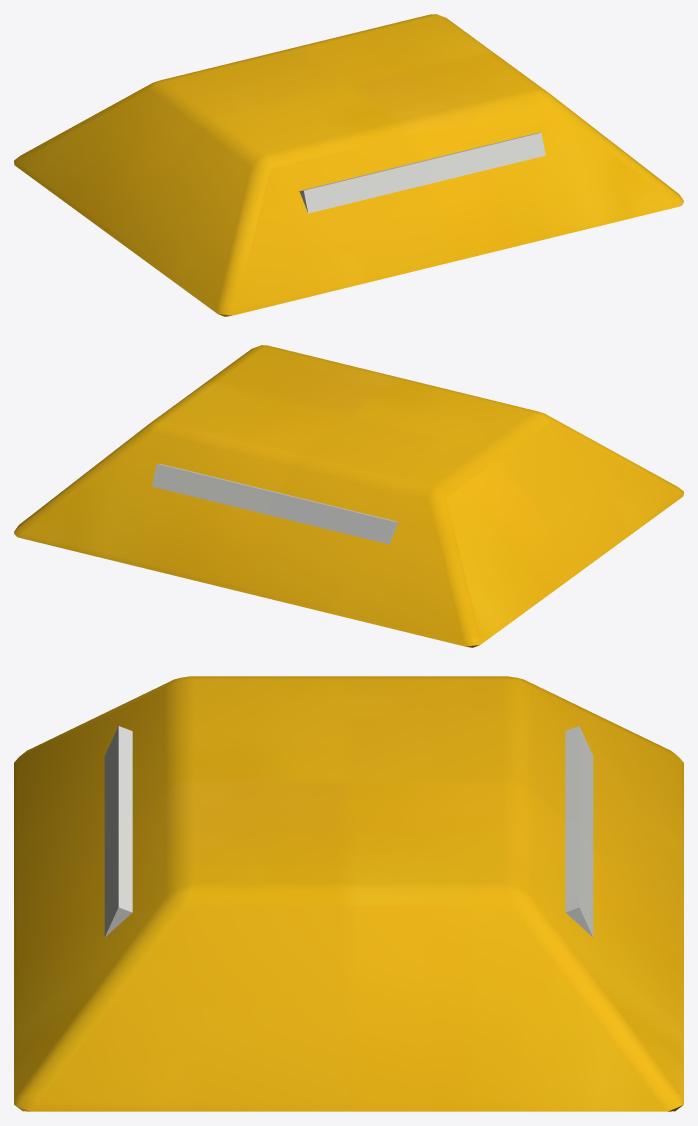
Rendered from PAV-SIN-002_lod1.glb.
3 views of the same model, one above another, from view 1: azimuth 30°, elevation 25°; view 2: azimuth 150°, elevation 25°; view 3: azimuth 270°, elevation 25° (orthographic). The views are drawn at different scales.
Parts seen in each view (by area): view 1: PAV-SIN-002_corpo, PAV-SIN-002_refletivo0; view 2: PAV-SIN-002_corpo, PAV-SIN-002_refletivo2; view 3: PAV-SIN-002_corpo, PAV-SIN-002_refletivo2, PAV-SIN-002_refletivo0.
Boxes of the visible parts, x1=… form: PAV-SIN-002_corpo: x1=14, y1=14, x2=683, y2=316; PAV-SIN-002_refletivo0: x1=299, y1=132, x2=545, y2=213; PAV-SIN-002_corpo: x1=14, y1=345, x2=683, y2=647; PAV-SIN-002_refletivo2: x1=152, y1=463, x2=398, y2=544; PAV-SIN-002_corpo: x1=14, y1=676, x2=683, y2=1111; PAV-SIN-002_refletivo2: x1=565, y1=726, x2=593, y2=937; PAV-SIN-002_refletivo0: x1=104, y1=726, x2=132, y2=937.
Bounding box in the file's own units: 0.098 × 0.02 × 0.078.
Materials: 2 (2 with a texture image).
